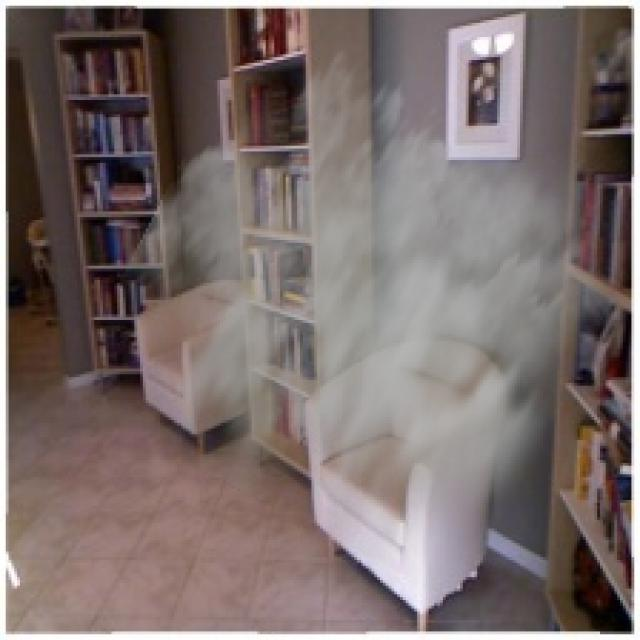smoke: (103, 46, 628, 603)
